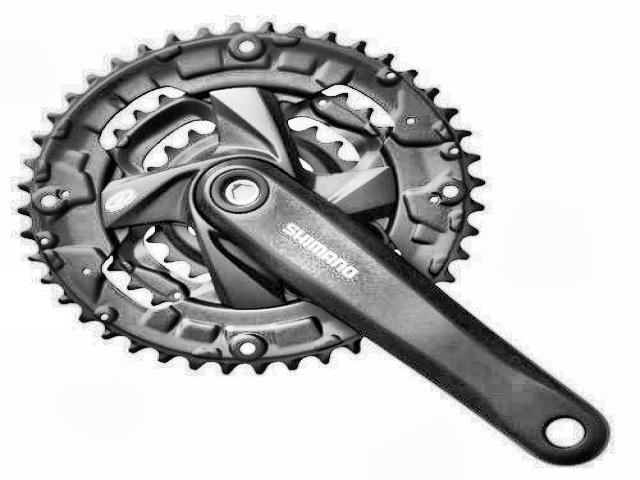cranks_set: (14, 19, 615, 470)
